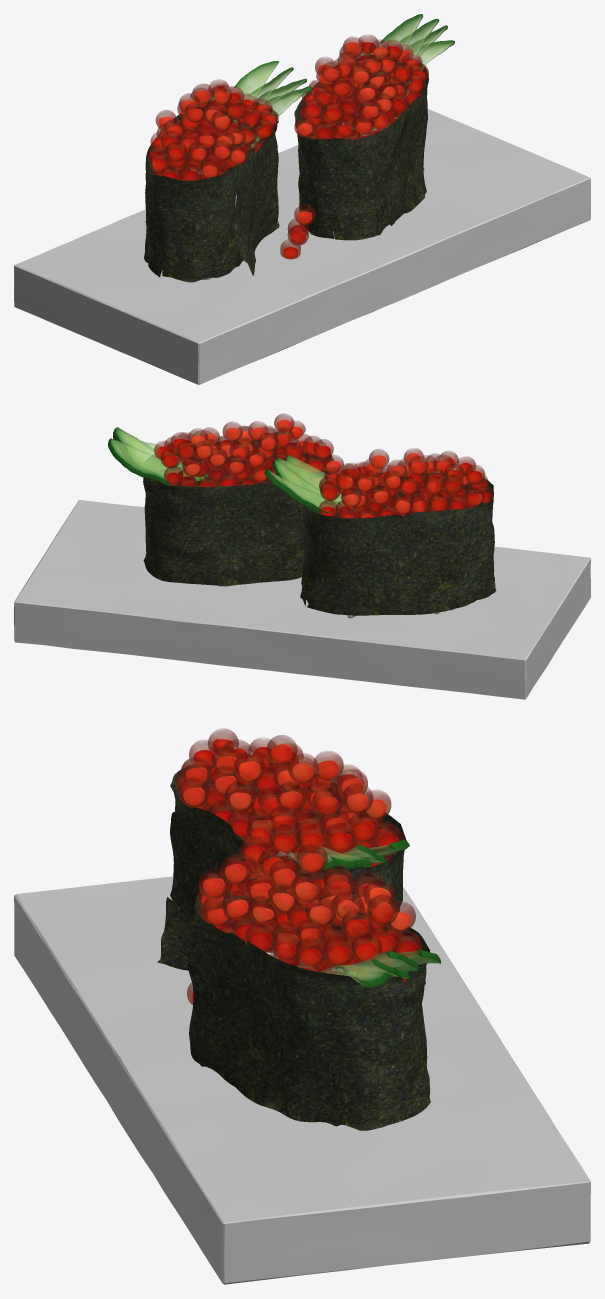
3 renders of one model, top to bottom at view 1: azimuth 30°, elevation 25°; view 2: azimuth 150°, elevation 25°; view 3: azimuth 270°, elevation 25°, orthographic. The views are drawn at different scales.
Visible parts, largest first — view 1: wood, seaweed (×2), cucumber4 (×2), cucumber1 (×2), cucumber3, cucumber2; view 2: wood, seaweed (×2), cucumber4 (×2), cucumber3 (×2), cucumber2, cucumber1; view 3: wood, seaweed (×2), cucumber1, salmonroe_out_042, salmonroe_out_146, salmonroe_out_131, salmonroe_out_195, salmonroe_out_115, salmonroe_out_045, salmonroe_out_043, salmonroe_out_144, salmonroe_out_142 (+22 smaller).
Part boxes in pixels (box(x1,y1,x2,y2)): wood: box(14, 109, 590, 384); seaweed (×2): box(144, 54, 428, 282); cucumber4 (×2): box(233, 14, 423, 123); cucumber1 (×2): box(249, 40, 454, 147); cucumber3: box(399, 18, 439, 57); cucumber2: box(241, 78, 306, 128); wood: box(14, 500, 590, 699); seaweed (×2): box(143, 432, 496, 615); cucumber4 (×2): box(108, 438, 342, 516); cucumber3 (×2): box(113, 427, 342, 514); cucumber2: box(277, 458, 344, 505); cucumber1: box(285, 455, 342, 504); wood: box(14, 876, 590, 1284); seaweed (×2): box(157, 765, 430, 1130); cucumber1: box(319, 965, 393, 987); salmonroe_out_042: box(367, 894, 398, 925); salmonroe_out_146: box(234, 752, 265, 783); salmonroe_out_131: box(224, 780, 255, 811); salmonroe_out_195: box(333, 890, 364, 920); salmonroe_out_115: box(178, 777, 209, 807); salmonroe_out_045: box(296, 843, 327, 874); salmonroe_out_043: box(341, 909, 372, 939); salmonroe_out_144: box(312, 786, 342, 817); salmonroe_out_142: box(276, 781, 306, 811).
Bounding box in the file's own units: 13.66 × 4.96 × 8.99.
